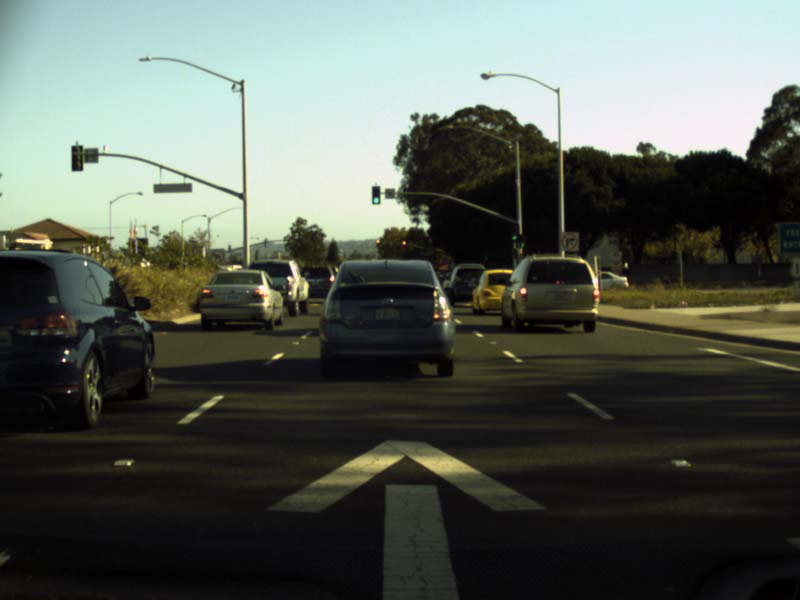Green: (371, 185, 380, 203), (518, 234, 526, 248)
Red: (400, 238, 407, 250), (374, 237, 381, 243)
